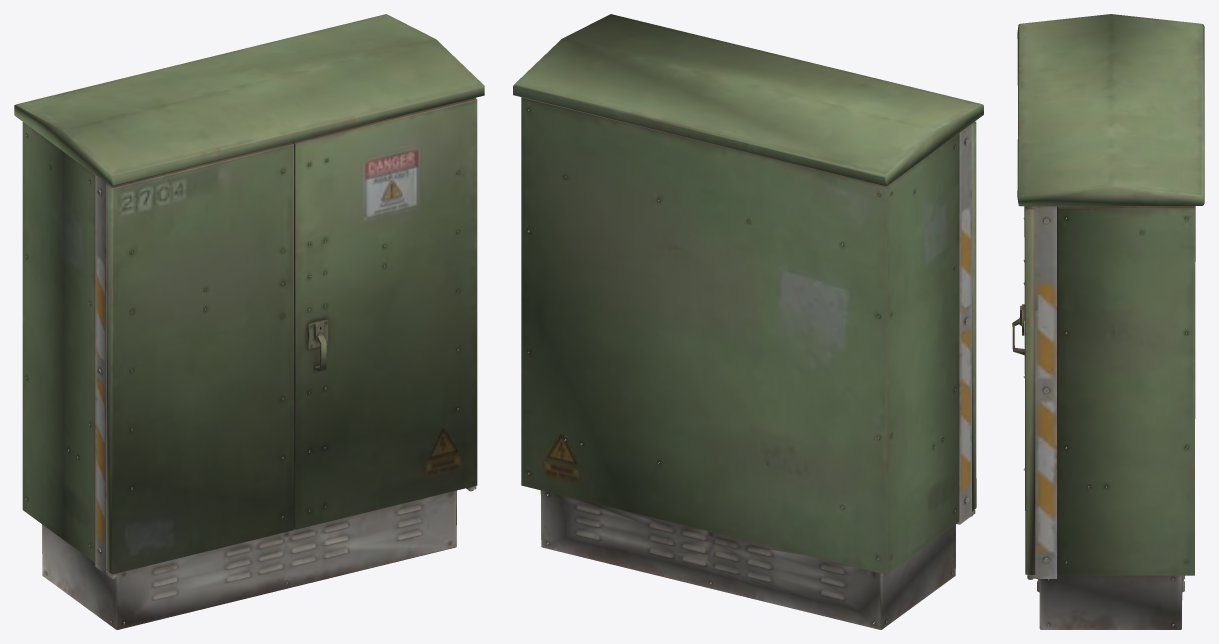
File: utility_box_02.glb
3 views of the same model, side by side, from view 1: azimuth 30°, elevation 25°; view 2: azimuth 150°, elevation 25°; view 3: azimuth 270°, elevation 25° (orthographic). The views are drawn at different scales.
Visible parts, largest first — view 1: utility_box_02; view 2: utility_box_02; view 3: utility_box_02.
Part boxes in pixels (x1,y1,x2,y2): utility_box_02: [14, 14, 484, 629]; utility_box_02: [513, 14, 983, 629]; utility_box_02: [1012, 14, 1204, 629].
Bounding box in the file's own units: 0.9165 × 1.12 × 0.4312.
Materials: 1 (1 with a texture image).
